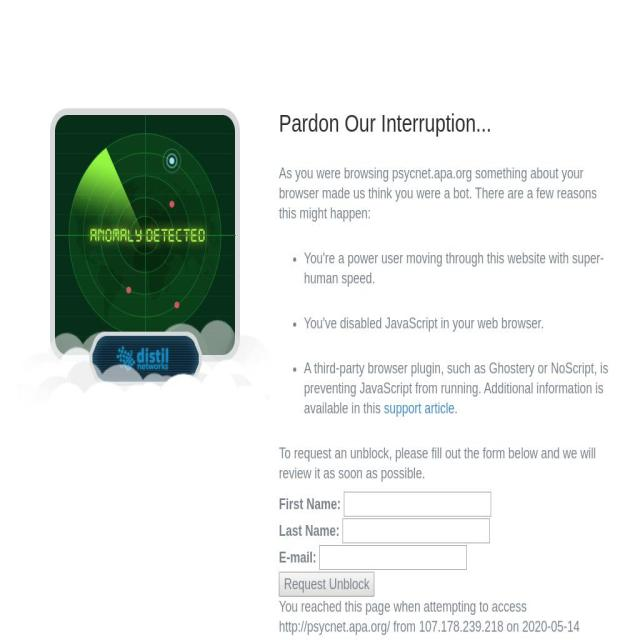field: (342, 518, 490, 544), (320, 545, 468, 570), (344, 492, 492, 516), (279, 572, 375, 596)
heading: (278, 108, 614, 138)
image: (17, 108, 269, 475)
label: (279, 494, 341, 514), (279, 521, 340, 541), (279, 548, 317, 568)
link: (384, 400, 455, 417)
text: (278, 165, 598, 222), (304, 360, 608, 417), (278, 444, 614, 484), (279, 598, 580, 640), (304, 248, 614, 288), (304, 314, 614, 334), (278, 165, 392, 182), (392, 165, 472, 182), (454, 400, 458, 417)
